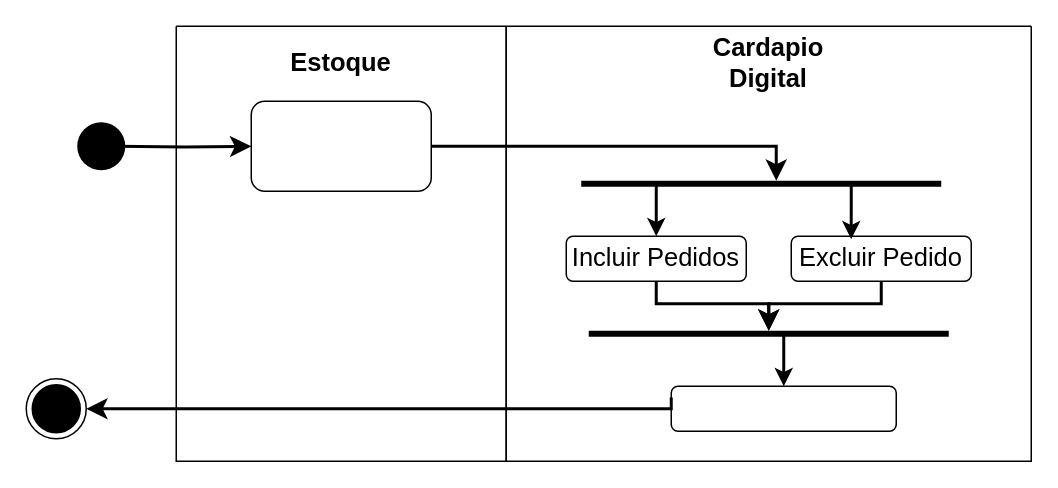
This 1058x488 diagram has some shape labels left out. Here are the shapes that lost their labels. From the top down, the centre of each, then its label:
point (340, 145): Verificar Estoque
point (783, 408): Gerar Cardápio
